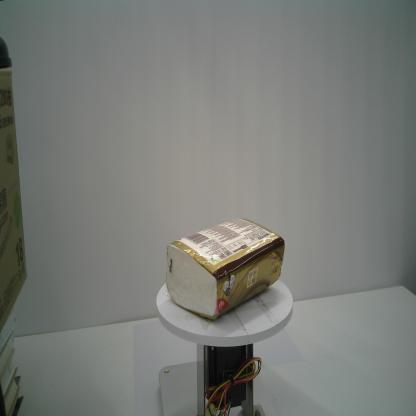Tissue: (166, 218, 285, 320)
